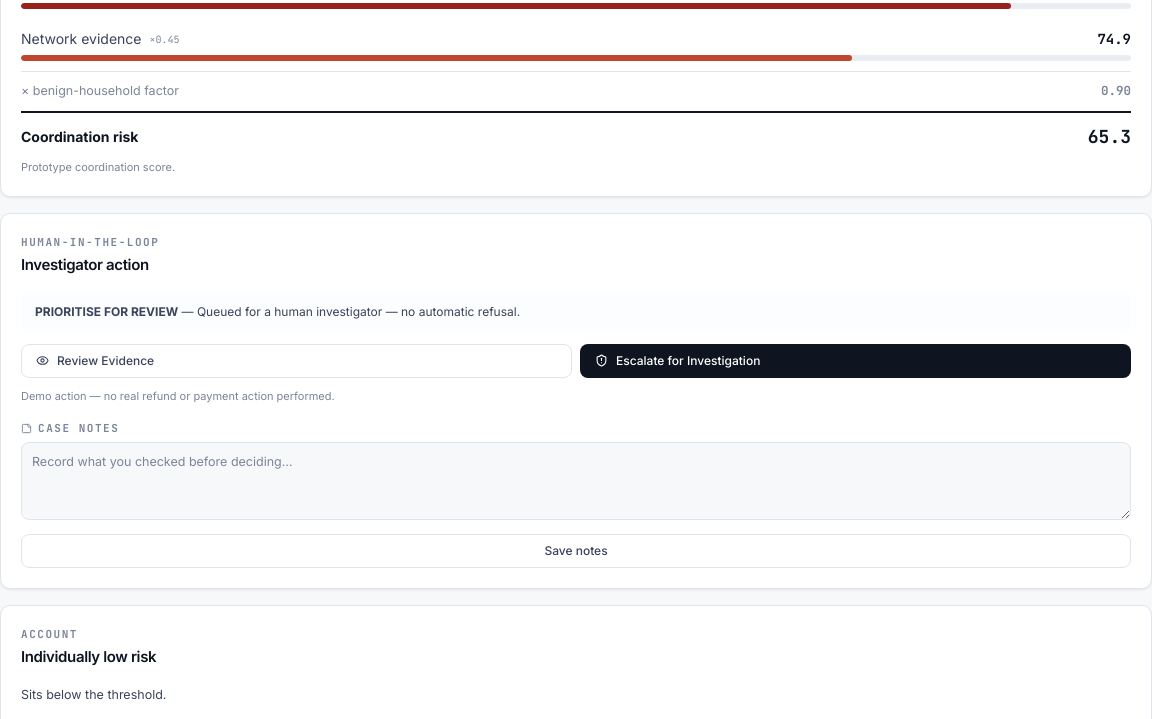
Investigator workflow › escalating records an action and an audit entry
(page scrolled)
Click the button "Escalate for Investigation" at (688, 360), box left=580, top=344, right=1131, bottom=378
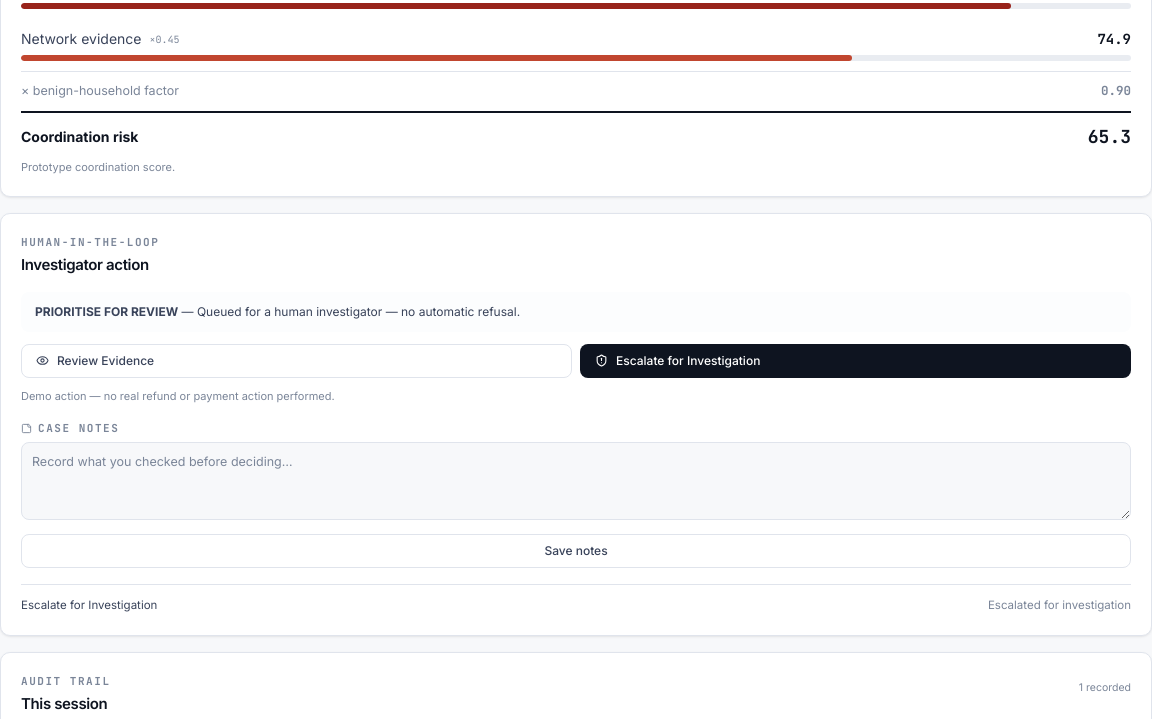
Expected: the heading "This session" is shown, left=21, top=693, right=110, bottom=715
